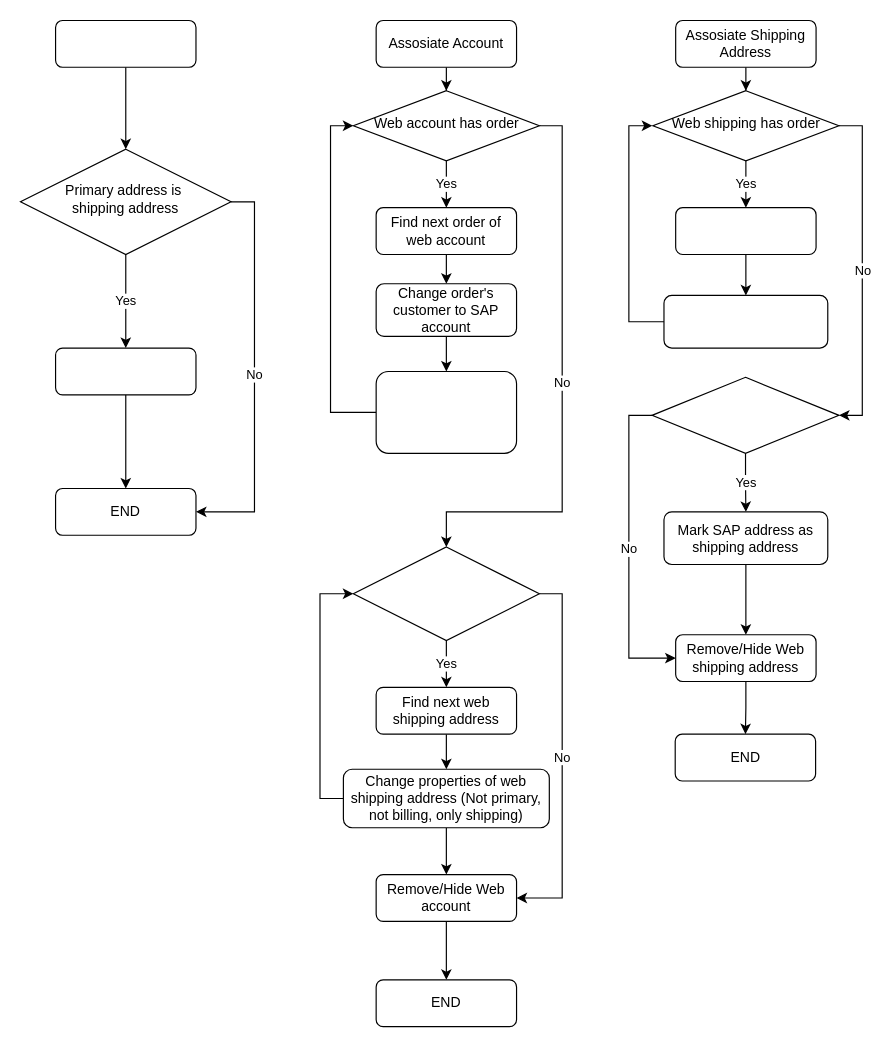
Image size: 893x1047. Some labels were removed from this diagram. The box of each missing label's shape, as (x1, y1, x2, y2) in pixels:
Change order's billing address to SAP account's billing address: (375, 370, 517, 453)
Change order's shipping address SAP address: (663, 294, 828, 348)
Find next order submitted with web account: (675, 207, 816, 254)
Mark primary address as shipping address: (54, 347, 196, 395)
SAP address is billing address: (651, 376, 839, 453)
Ship to billing when checkout: (54, 19, 196, 67)
Web account has shipping address: (352, 546, 539, 641)
